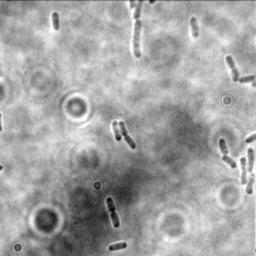Dividing: (117, 119, 138, 151), (104, 195, 122, 229), (224, 53, 241, 82), (238, 155, 249, 186)
Rod: (130, 17, 144, 58), (188, 13, 201, 40), (106, 239, 130, 252), (220, 153, 238, 170), (244, 172, 255, 196), (236, 73, 255, 86), (246, 146, 255, 173), (218, 136, 229, 157), (51, 11, 62, 32)
